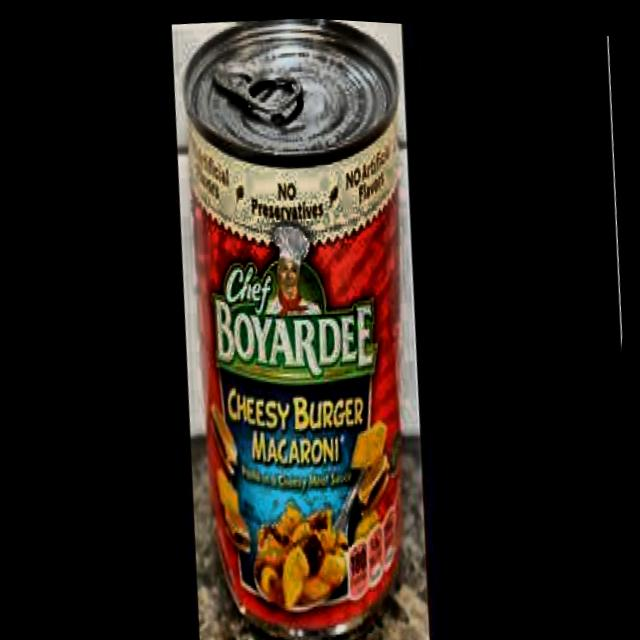Cans: (146, 8, 465, 640)
